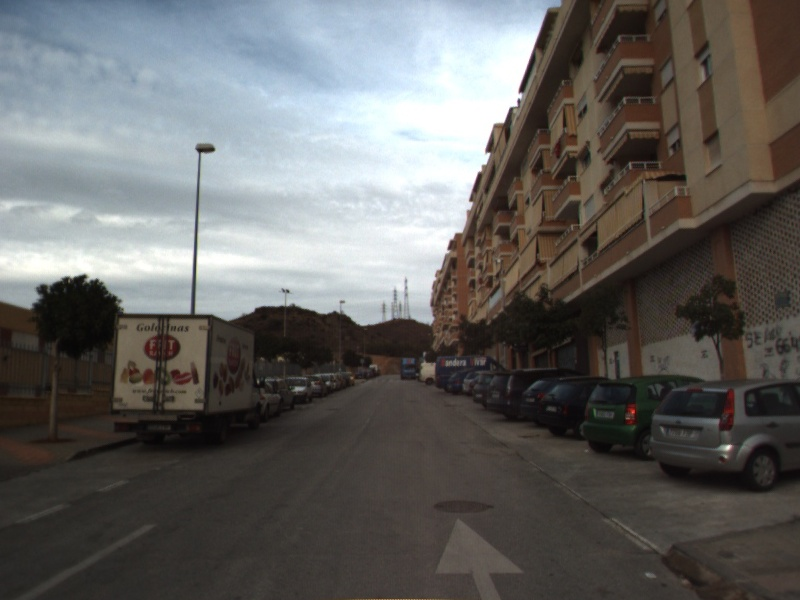STRAIGHT: (433, 516, 526, 600)
